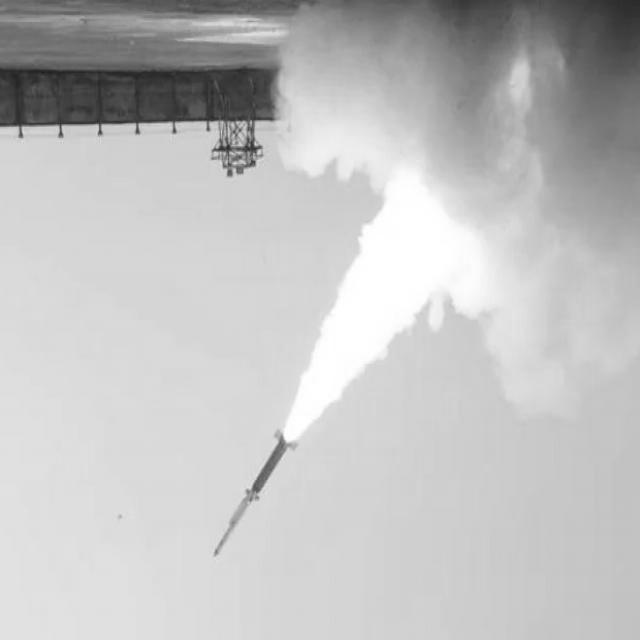missile: (209, 424, 300, 567)
